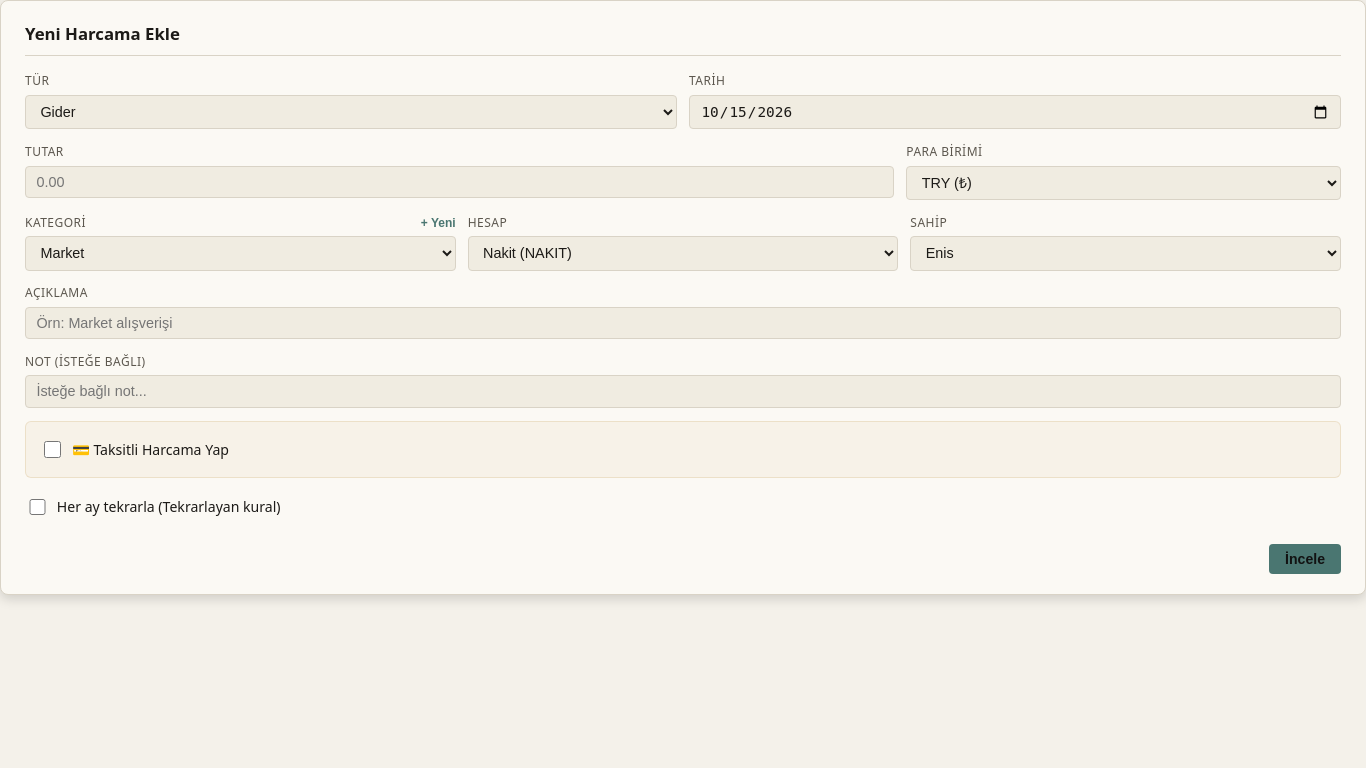
it: HarcamaFormu › kategori ekleme modalını açar ve yeni kategori ekleyip seçer
The image size is (1366, 768).
Click the button "+ Yeni".
click(438, 223)  # box [421,216,456,230]
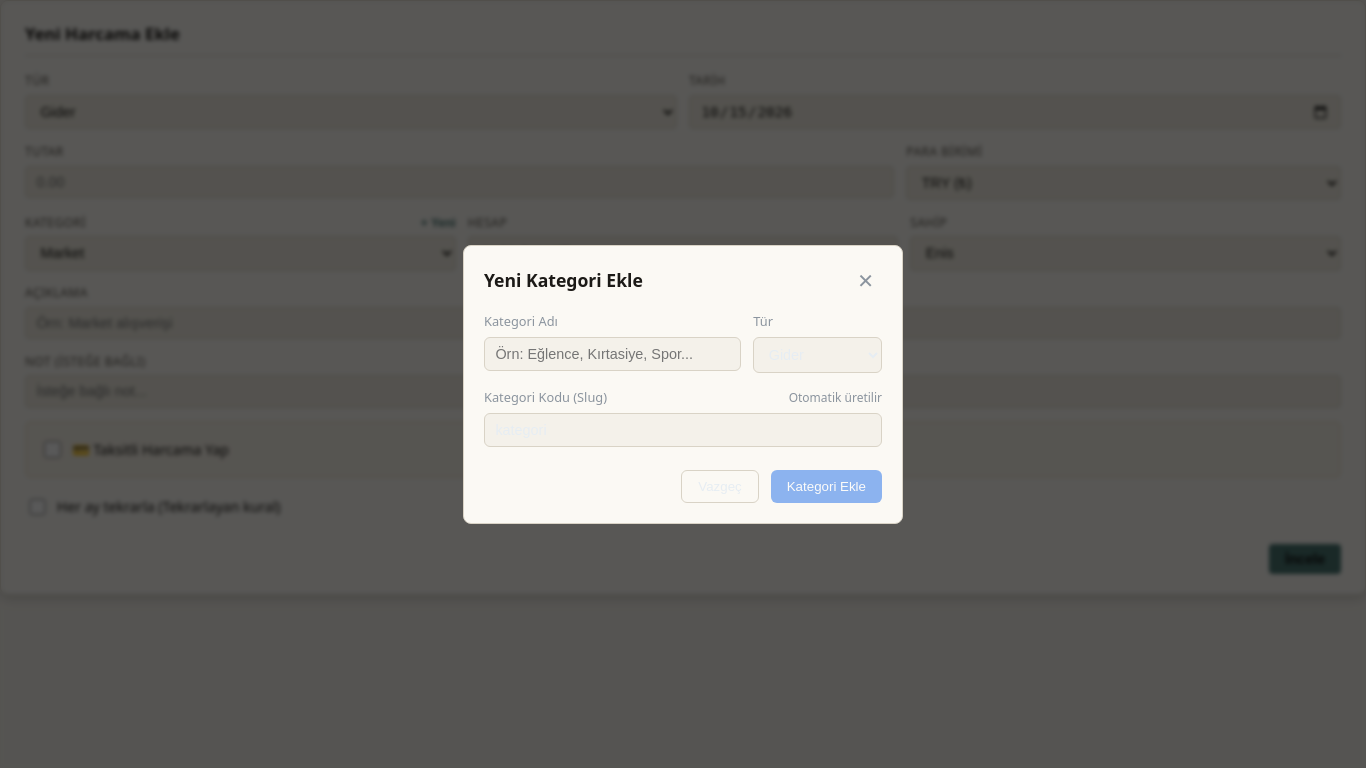
expect the heading "Yeni Kategori Ekle" is shown: met, box [484,267,643,294]
Type "Kırtasiye" into the field with id "kf-ad".
click(613, 354); type("Kırtasiye")  # box [484,337,741,371]
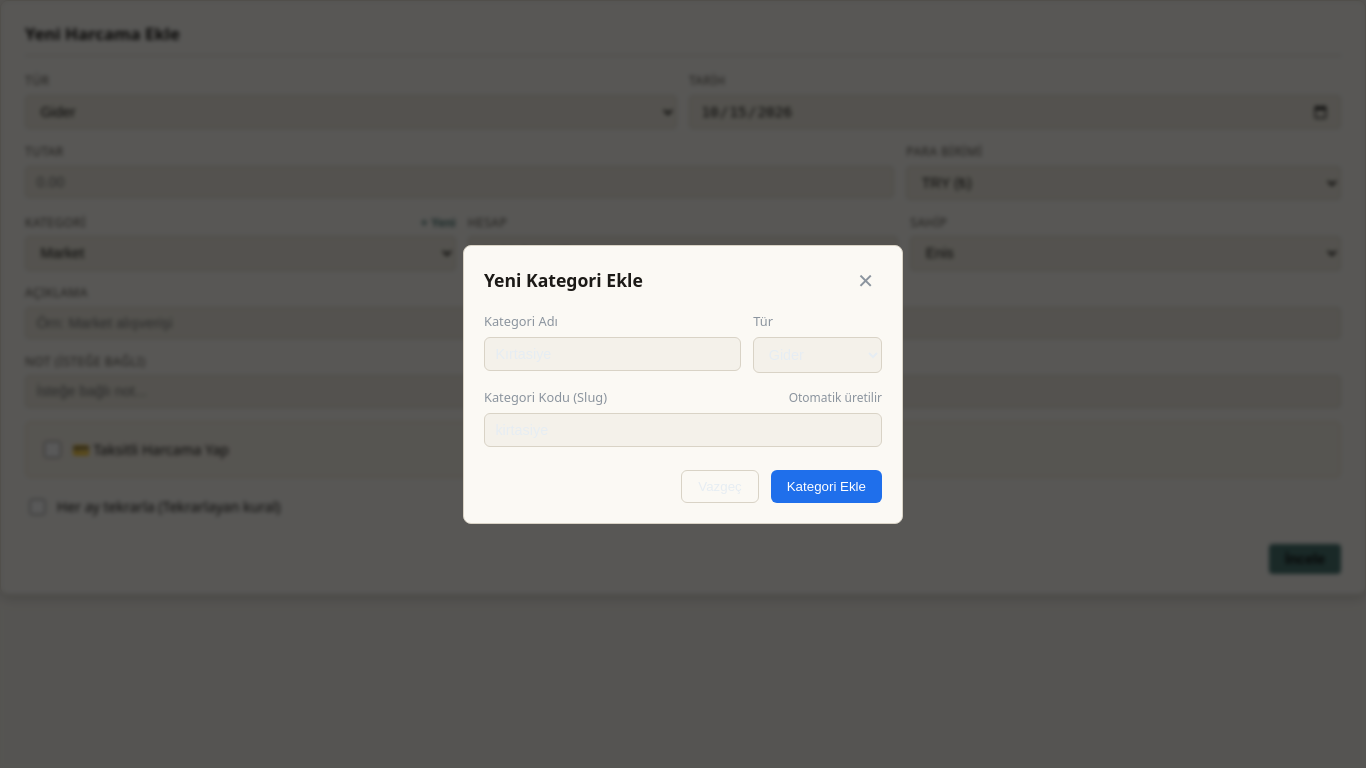
Click the button "Kategori Ekle".
click(826, 486)  # box [771,470,882,502]
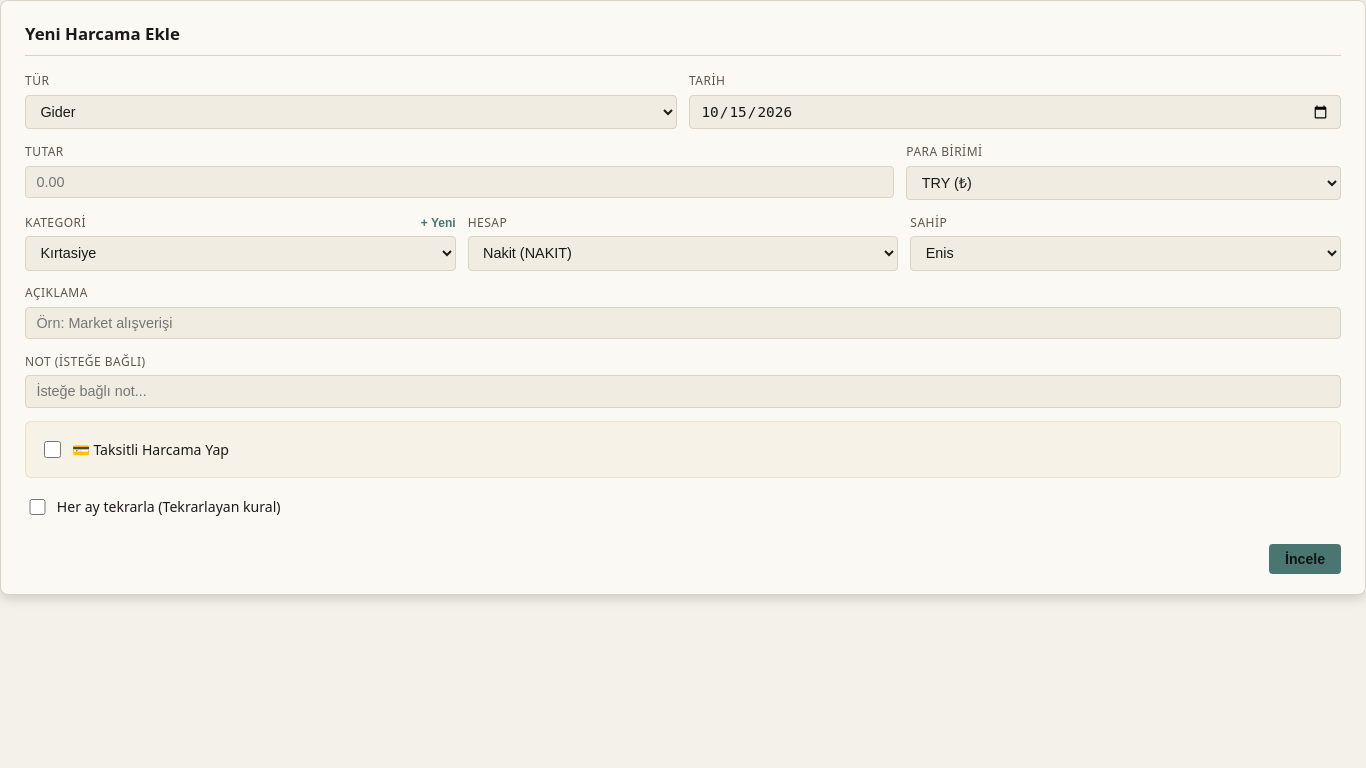
expect the dropdown with id "hf-kategori" shows "Kırtasiye": met, box [25,236,456,270]
